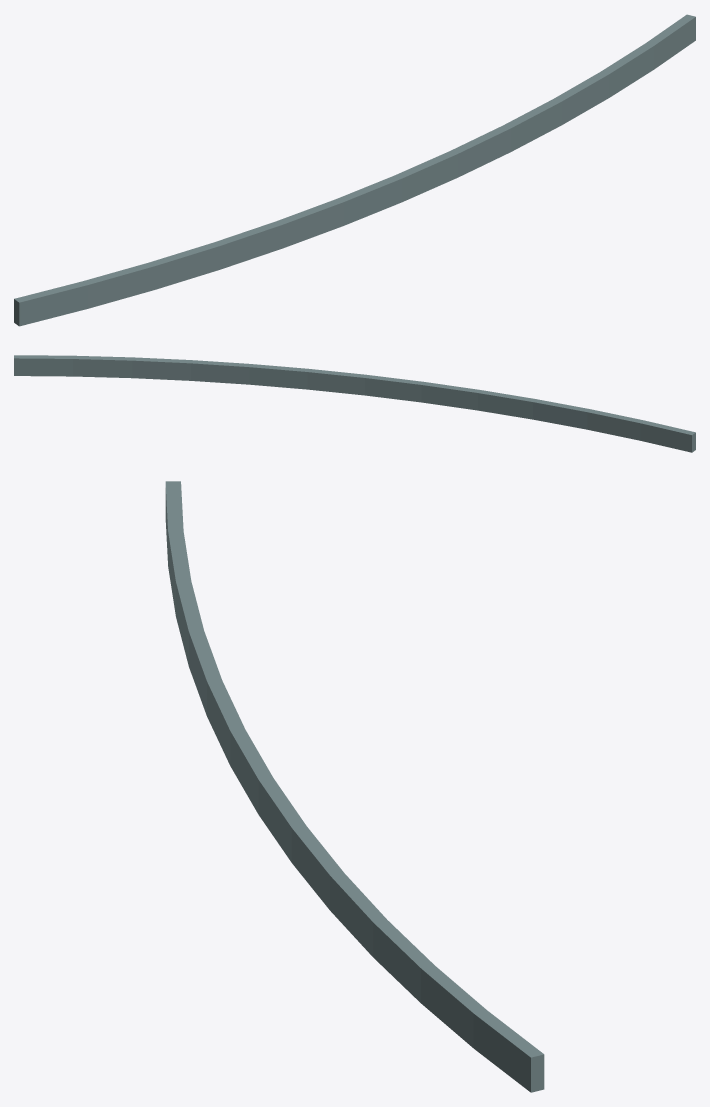
File: RoadPlan_WalkCurve_2L_A30_R18_Curb_-1.glb
3 views of the same model, one above another, from view 1: azimuth 30°, elevation 25°; view 2: azimuth 150°, elevation 25°; view 3: azimuth 270°, elevation 25° (orthographic). The views are drawn at different scales.
Parts seen in each view (by area): view 1: RoadPlan_WalkCurve_2L_A30_R18_Curb_-1; view 2: RoadPlan_WalkCurve_2L_A30_R18_Curb_-1; view 3: RoadPlan_WalkCurve_2L_A30_R18_Curb_-1.
Boxes of the visible parts, x1,y1,x2,y2 form: RoadPlan_WalkCurve_2L_A30_R18_Curb_-1: (14, 14, 695, 326); RoadPlan_WalkCurve_2L_A30_R18_Curb_-1: (14, 355, 695, 452); RoadPlan_WalkCurve_2L_A30_R18_Curb_-1: (165, 481, 544, 1092).
Bounding box in the file's own units: 10.56 × 0.3 × 2.93.
